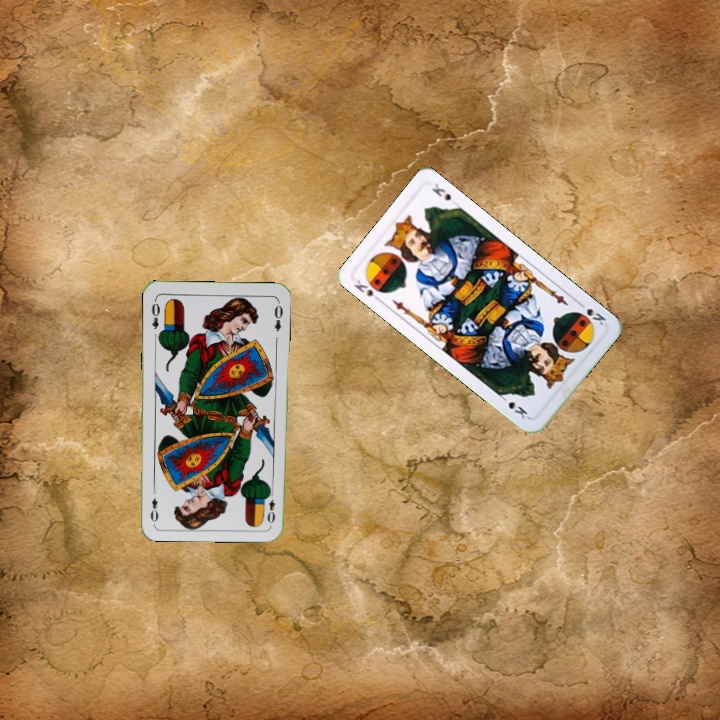EO: (263, 486, 278, 526), (147, 295, 162, 331)
SK: (350, 274, 387, 305), (574, 298, 609, 328)
